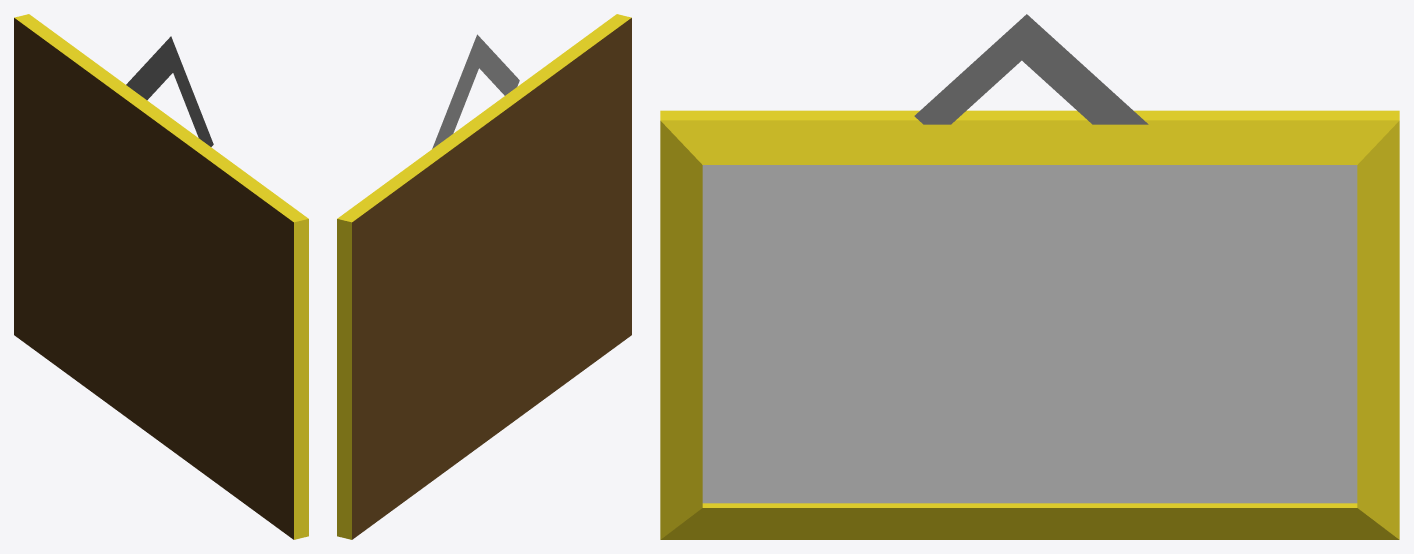
File: paintingWallShield.fbx
3 views of the same model, side by side, from view 1: azimuth 30°, elevation 25°; view 2: azimuth 150°, elevation 25°; view 3: azimuth 270°, elevation 25° (orthographic). The views are drawn at different scales.
Visible parts, largest first — view 1: Frame; view 2: Frame; view 3: PaintingHere, Frame.
Boxes of the visible parts, x1,y1,x2,y2 form: Frame: (14, 14, 308, 539); Frame: (337, 14, 631, 539); PaintingHere: (702, 165, 1357, 503); Frame: (660, 14, 1399, 539).
Bounding box in the file's own units: 5.09 × 78.59 × 100.
